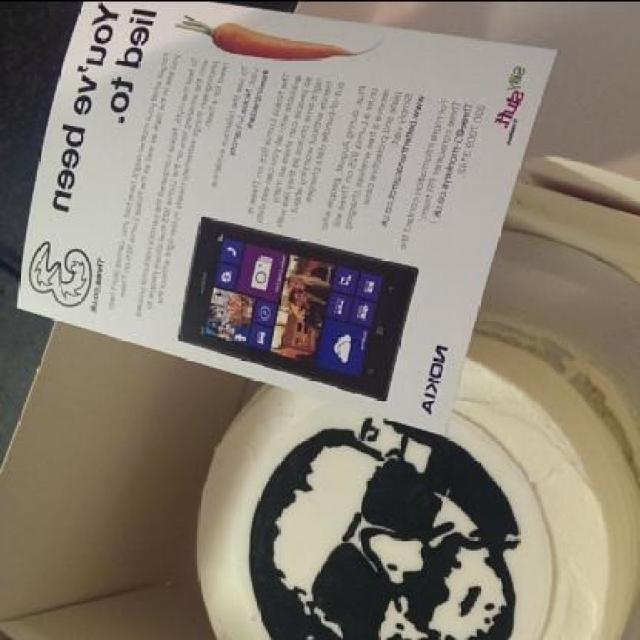phone: (166, 193, 409, 364)
